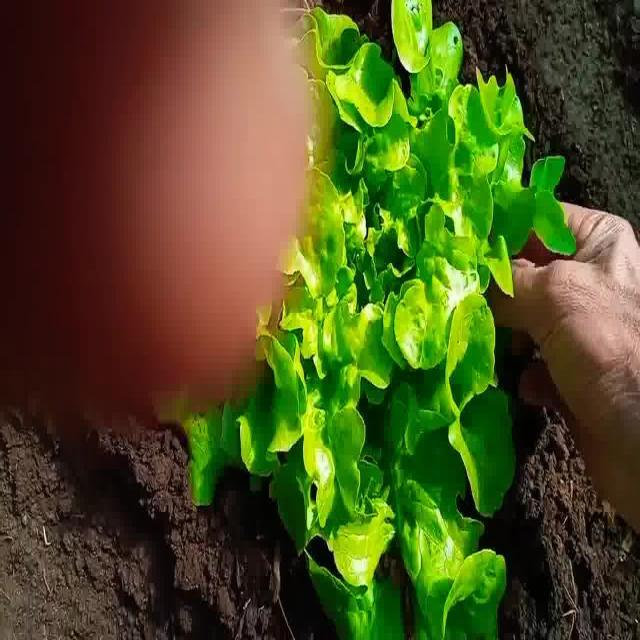Lettuce: (196, 0, 548, 640)
